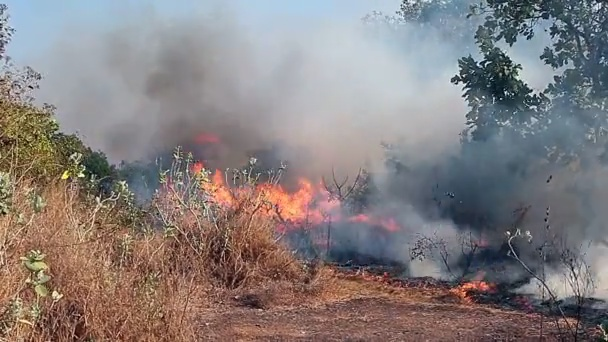fire: (266, 183, 313, 219), (205, 179, 227, 203), (466, 281, 488, 290), (62, 170, 68, 178)
